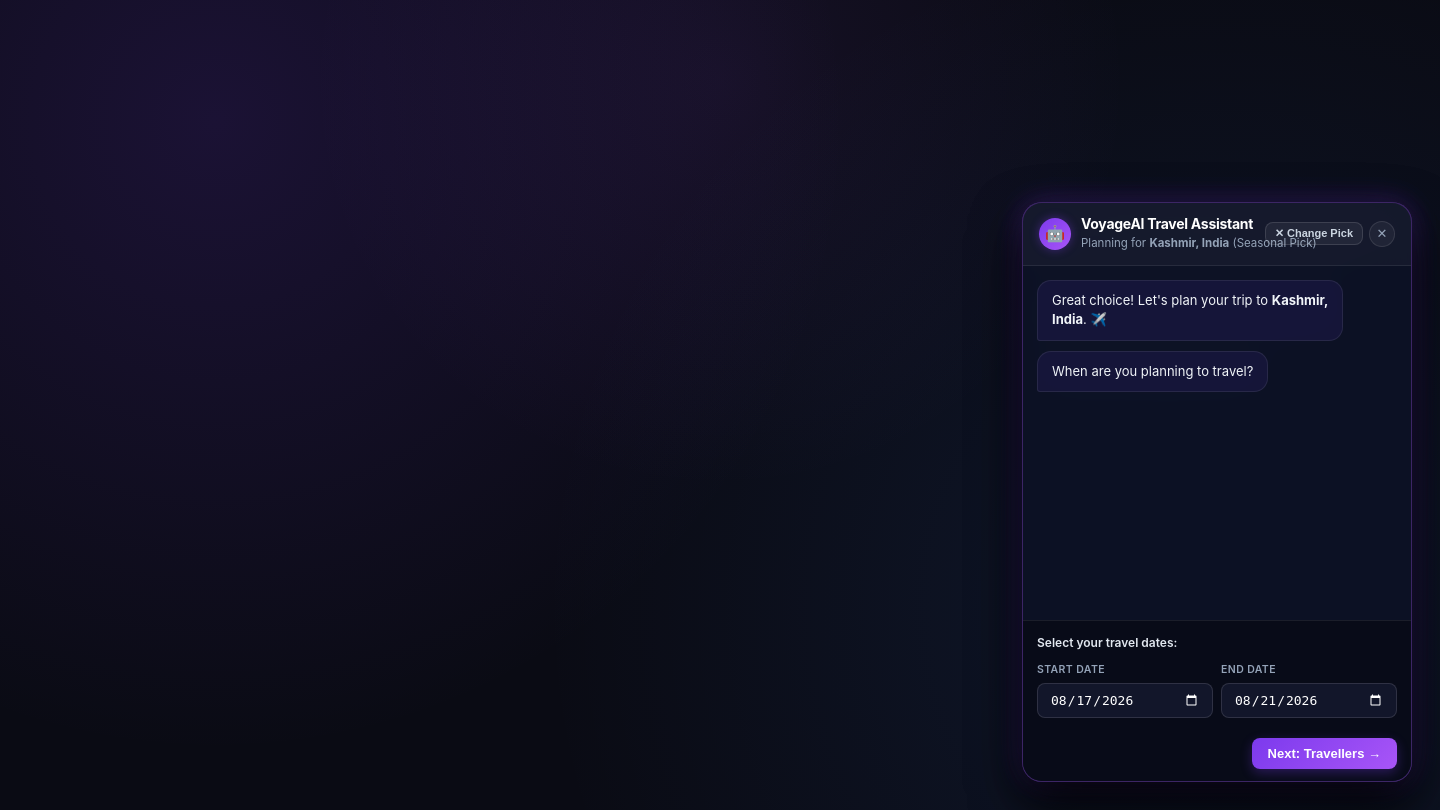
Test: ConversationalPlanner Component › advances through Dates -> Travellers -> Budget -> Special Req -> Confirm flow
This screenshot has width=1440, height=810.
Click the button "Next: Travellers →". click: (1324, 754)
box: [1252,738,1397,769]
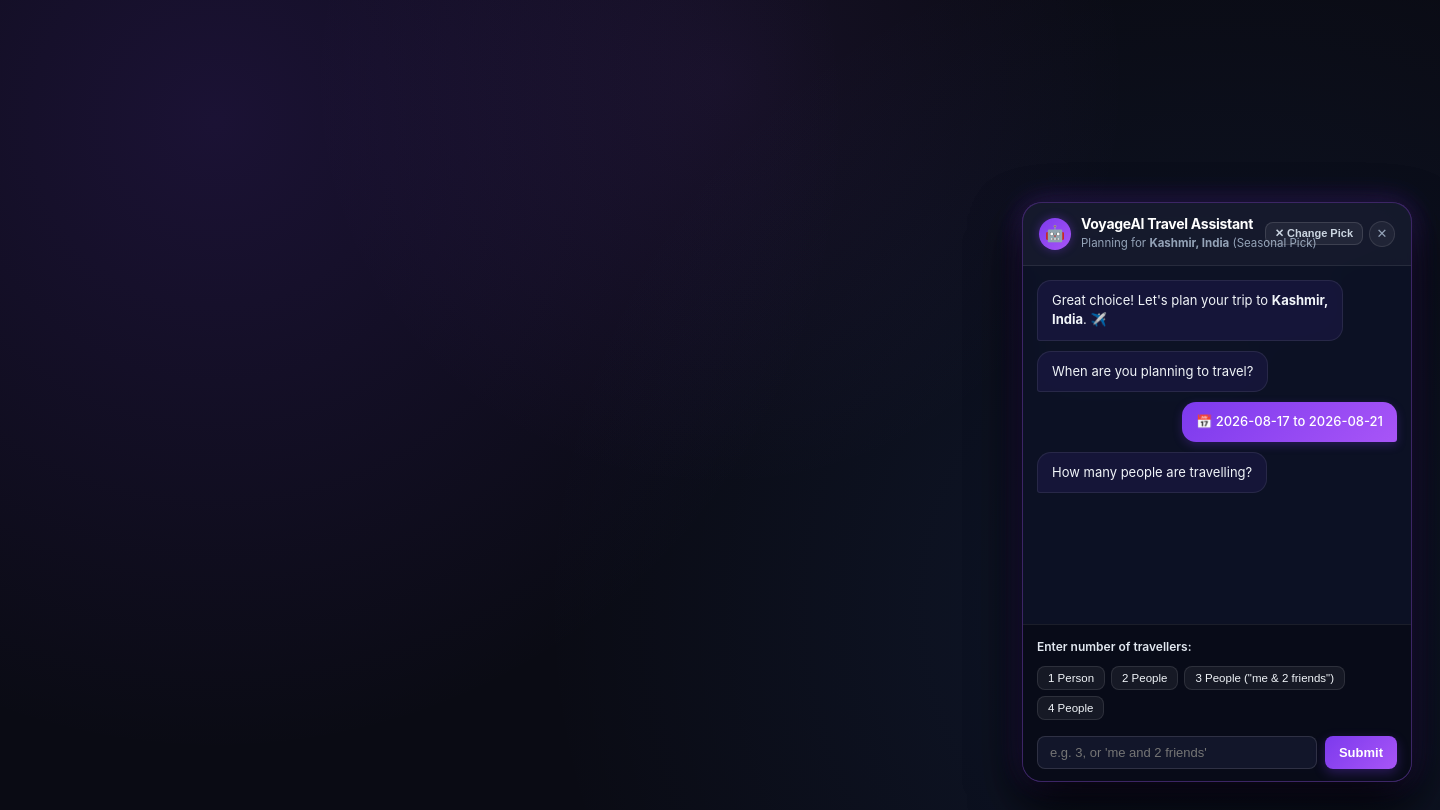
Now the element with test id "form-travellers" is shown, box [1037,637,1397,769]
Now the button "1 Person" is shown
Click the button "1 Person". click: (1071, 678)
box: [1037,666,1105,690]
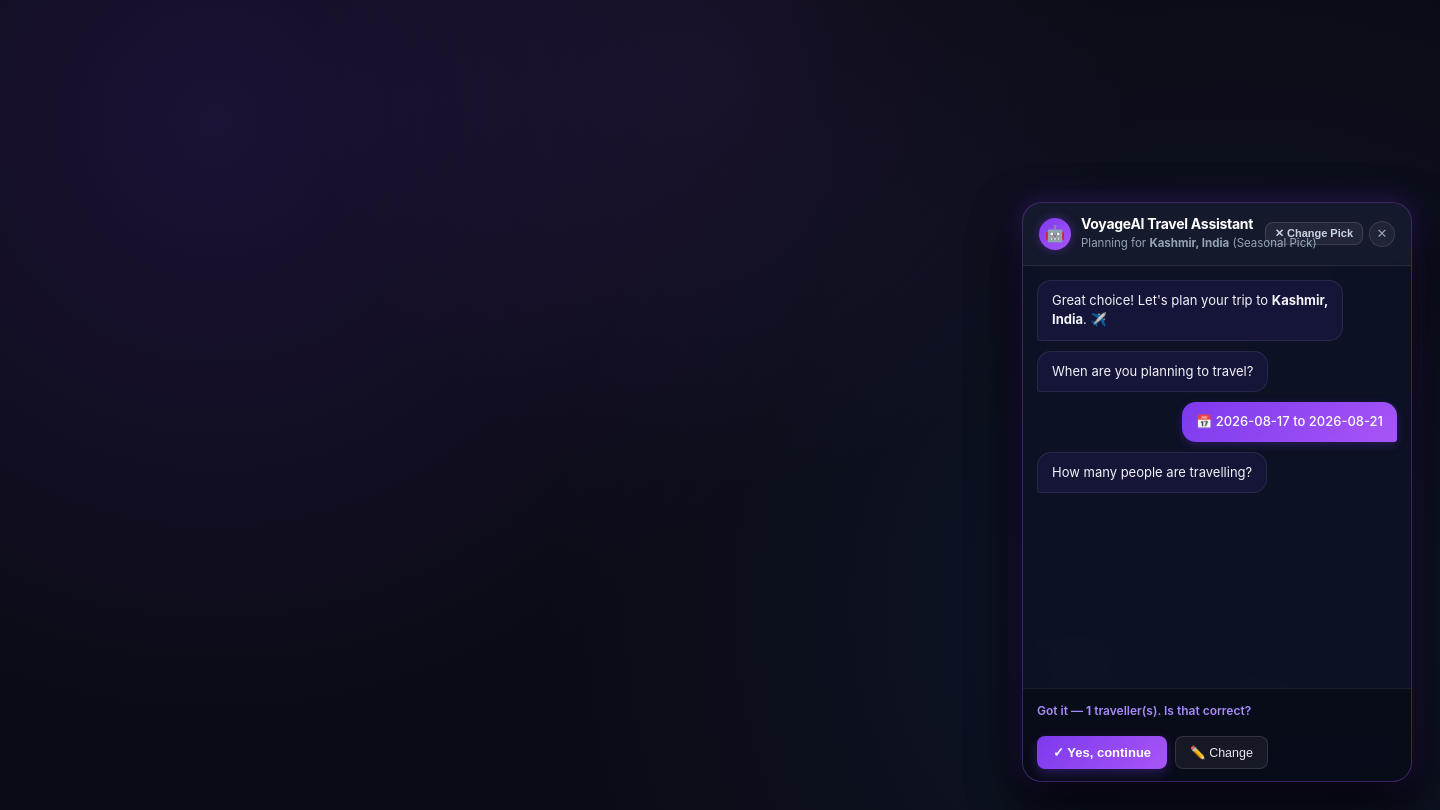
Now the element with test id "form-travellers-confirm" is shown, box [1037,703,1268,769]
Click the button "✓ Yes, continue". click: (1102, 752)
box: [1037,736,1167,769]
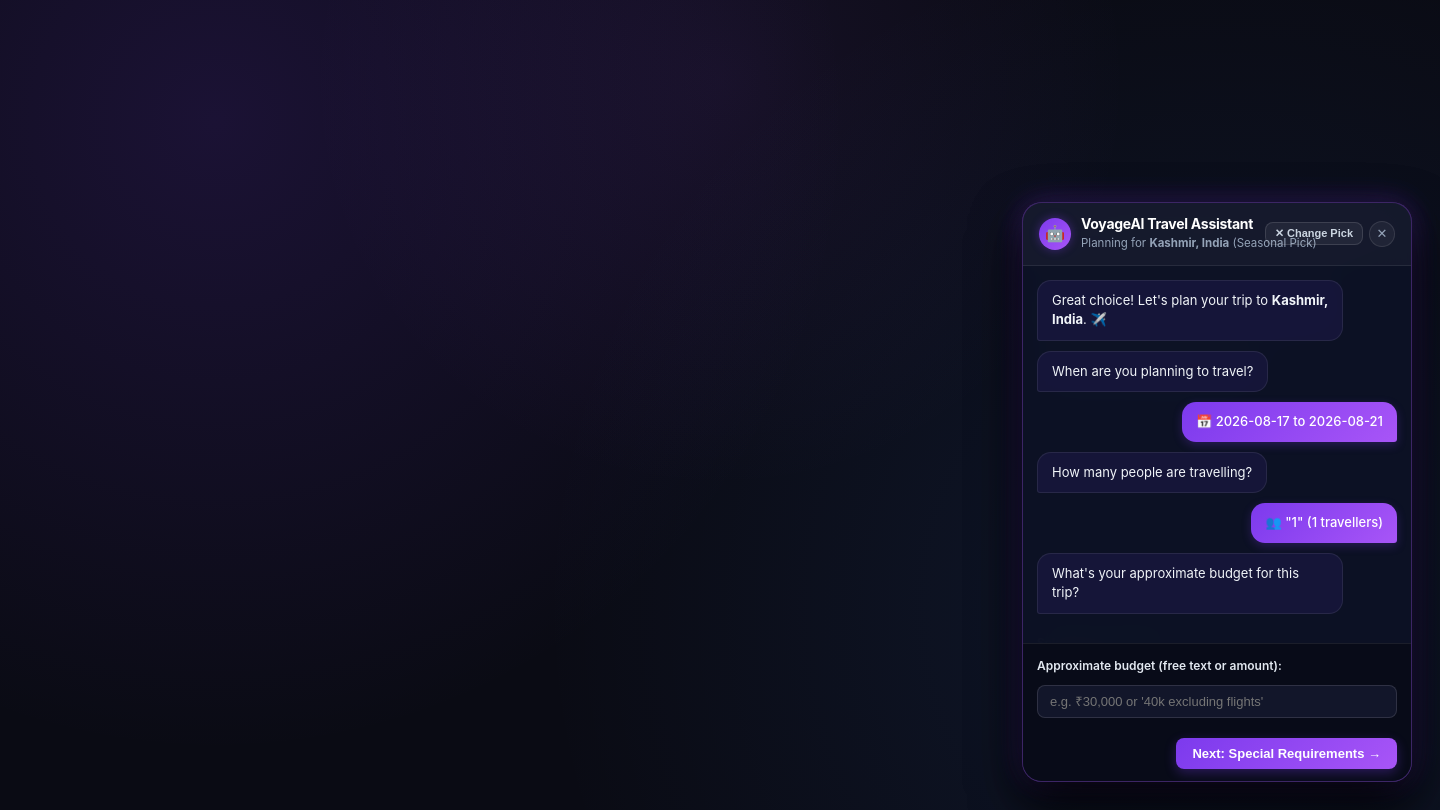
Now the form with test id "form-budget" is shown, box [1037,656,1397,769]
Click the button "Next: Special Requirements →". click: (1287, 754)
box: [1176,738,1397,769]
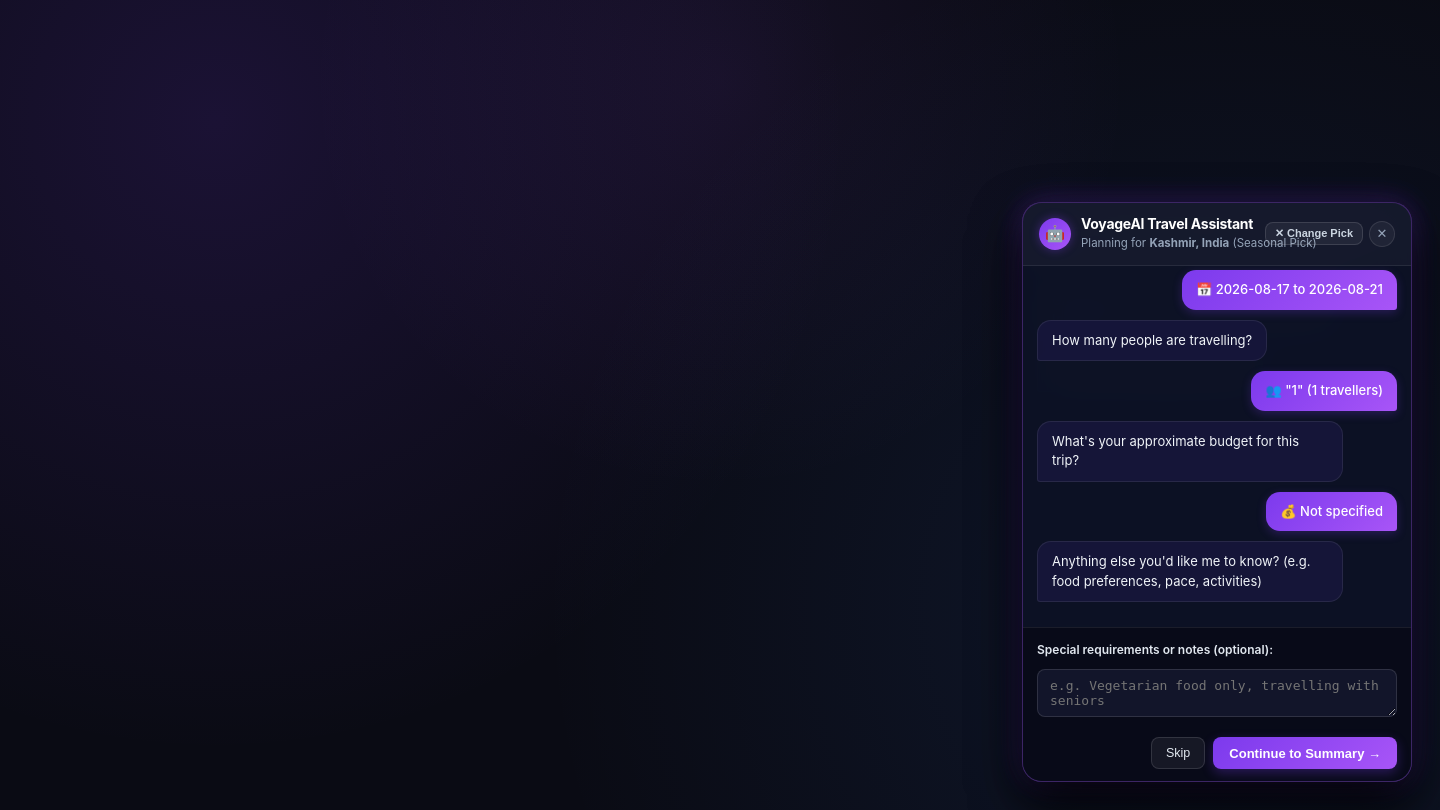
Now the element with test id "form-special-req" is shown, box [1037,640,1397,769]
Click the button "Skip". click: (1178, 753)
box: [1151,737,1205,769]
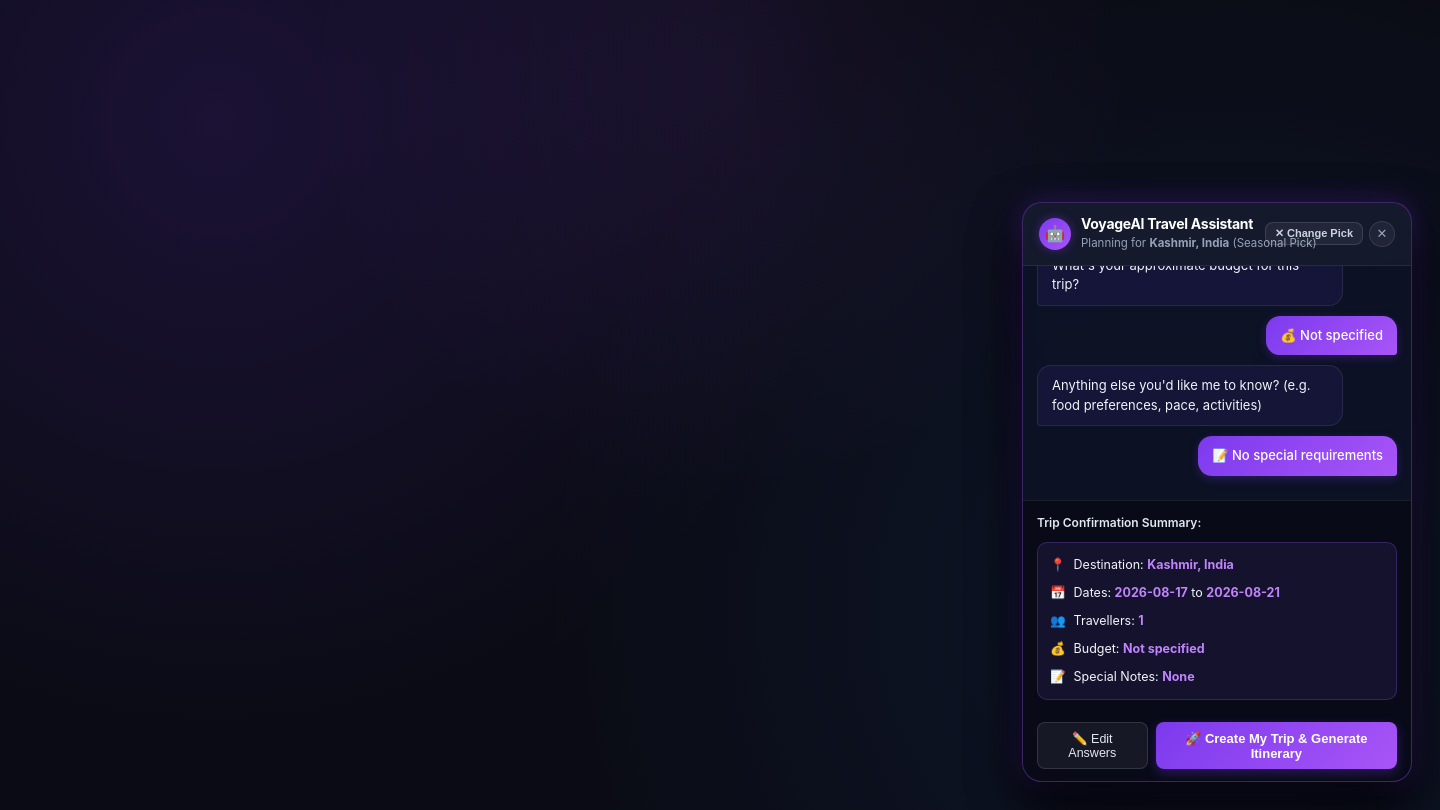
Expected: the text "Kashmir, India" is shown, [1149,236,1229,250]
Now the element with test id "form-confirm" is shown, box [1037,513,1397,769]
